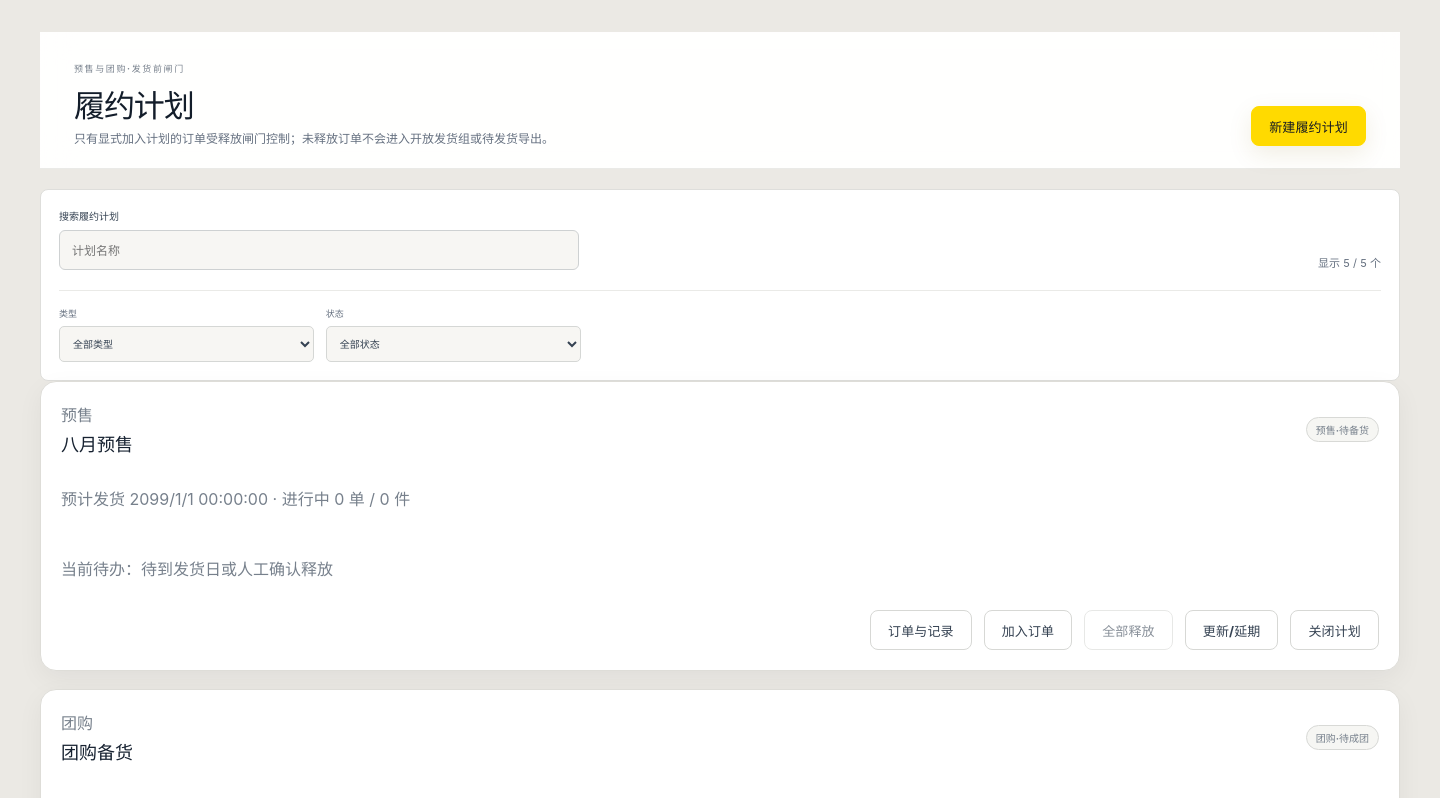
Test: 履约计划工作区筛选工具栏 › 按类型与派生状态筛选，具备释放条件为派生 ready 状态
Expected: the heading "八月预售" is shown, [61,430,133,456]
Select "团购" in the dropdown labelled "类型": (186, 344) [59,326,314,362]
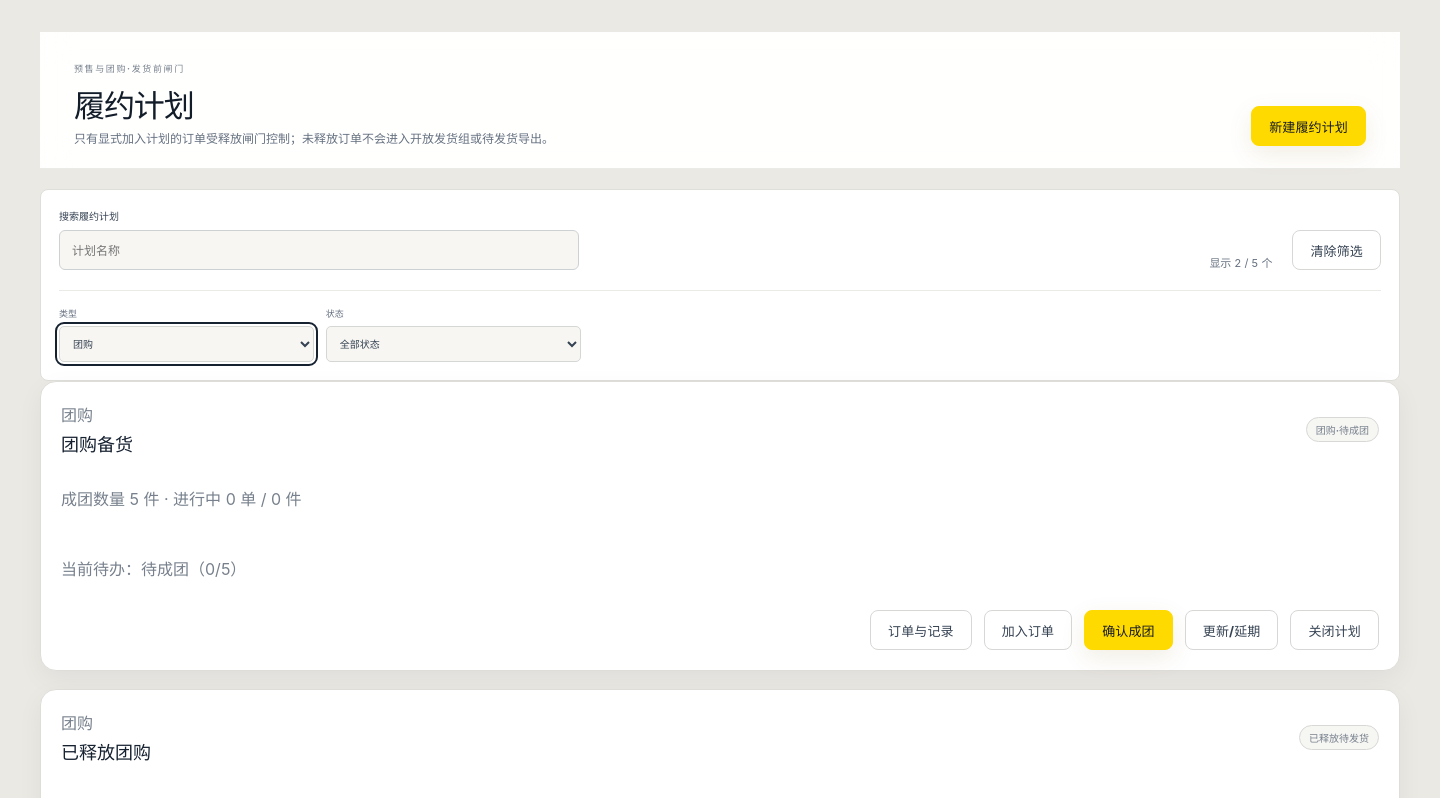
Expected: the heading "团购备货" is shown, [61,430,133,456]
Now the text "显示 2 / 5 个" is shown, box [1209,254,1272,270]
Now the heading "八月预售" is gone
Select "全部类型" in the dropdown labelled "类型": (186, 344) [59,326,314,362]
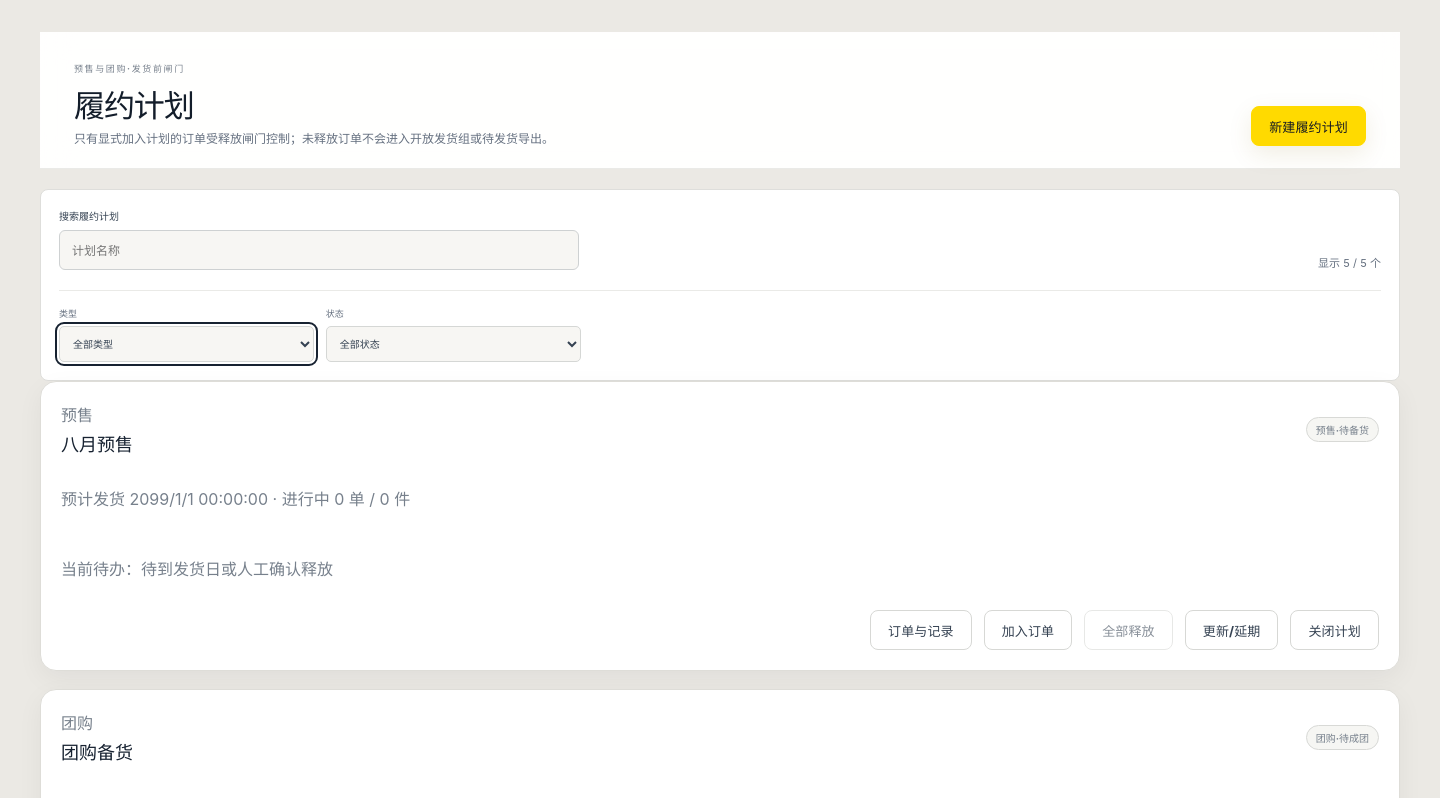
Select "具备释放条件/已成团" in the dropdown labelled "状态": (453, 344) [326,326,581,362]
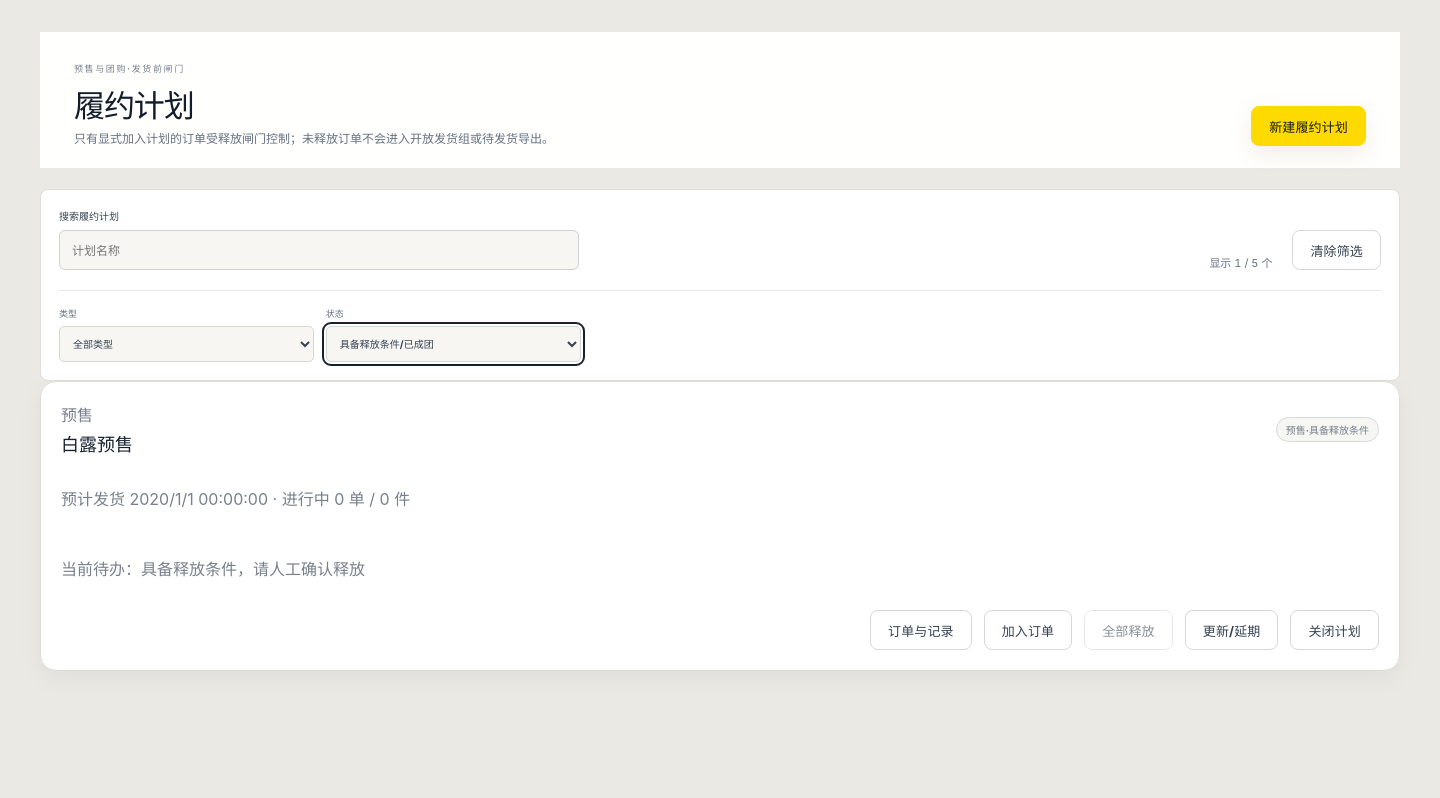
Now the heading "白露预售" is shown, box [61,430,133,456]
Now the text "显示 1 / 5 个" is shown, box [1209,254,1272,270]
Select "已关闭" in the dropdown labelled "状态": (453, 344) [326,326,581,362]
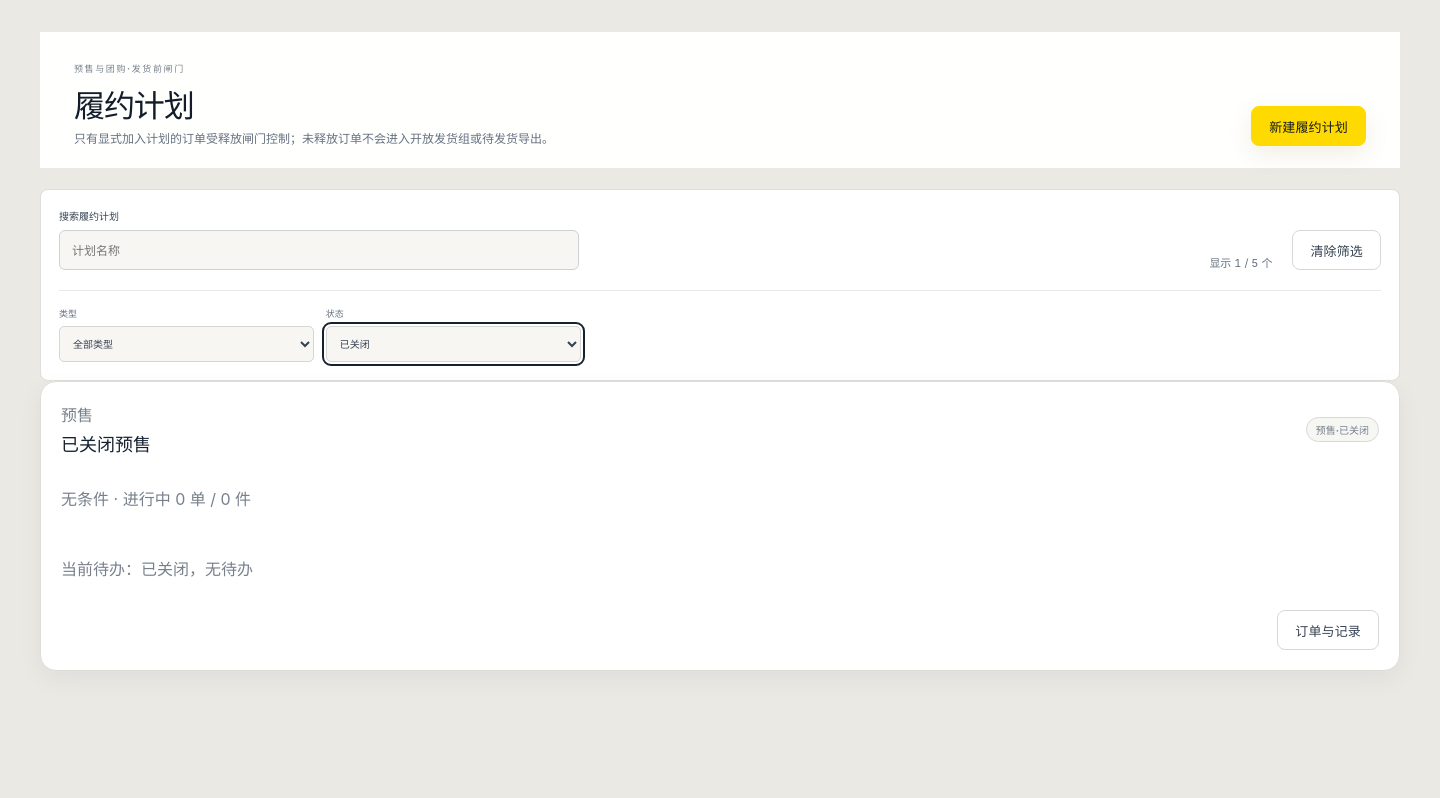
Now the heading "已关闭预售" is shown, box [61,430,151,456]
Now the heading "白露预售" is gone
